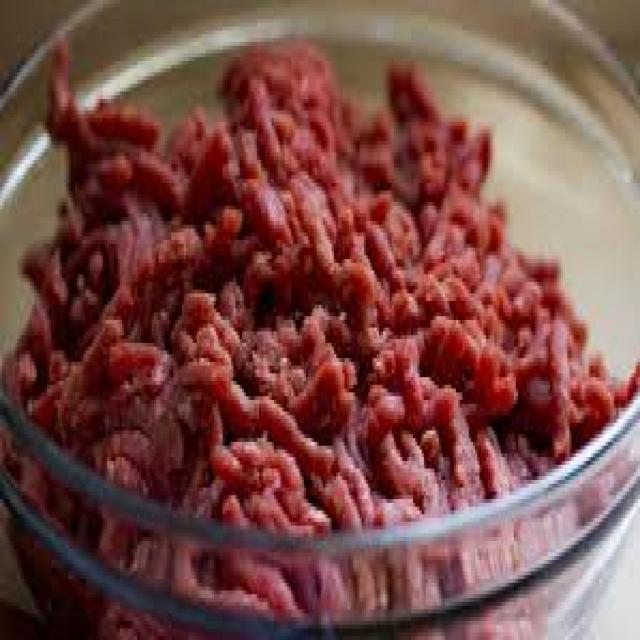Beef: (46, 51, 534, 478)
